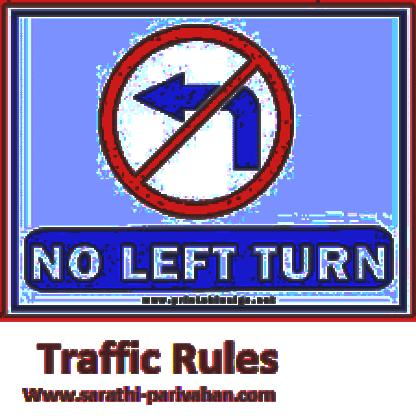No left turn: (94, 21, 301, 216)
